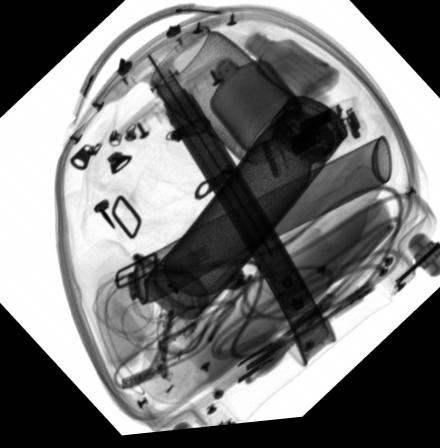Sprayer: (98, 144, 391, 322)
